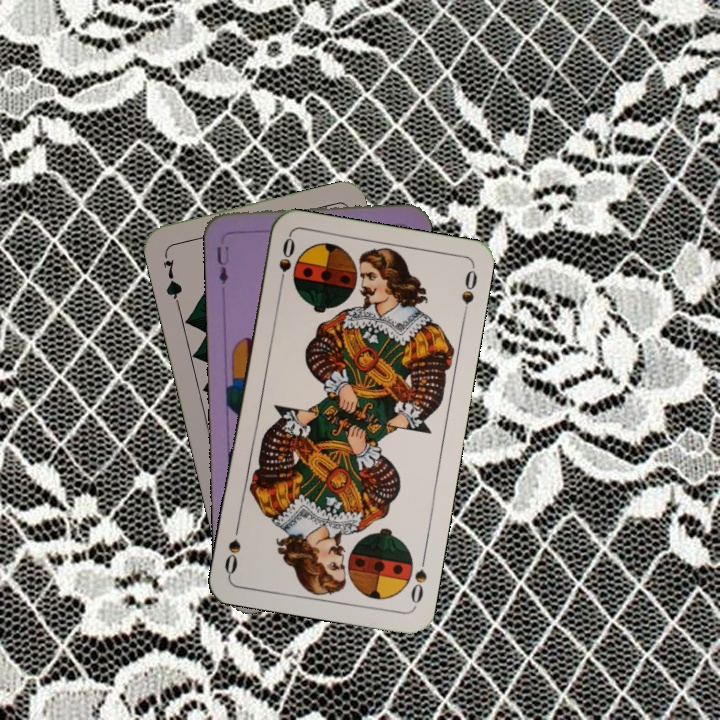EU: (213, 242, 231, 287)
G7: (159, 255, 185, 307)
SO: (274, 233, 298, 292), (406, 550, 430, 609)
